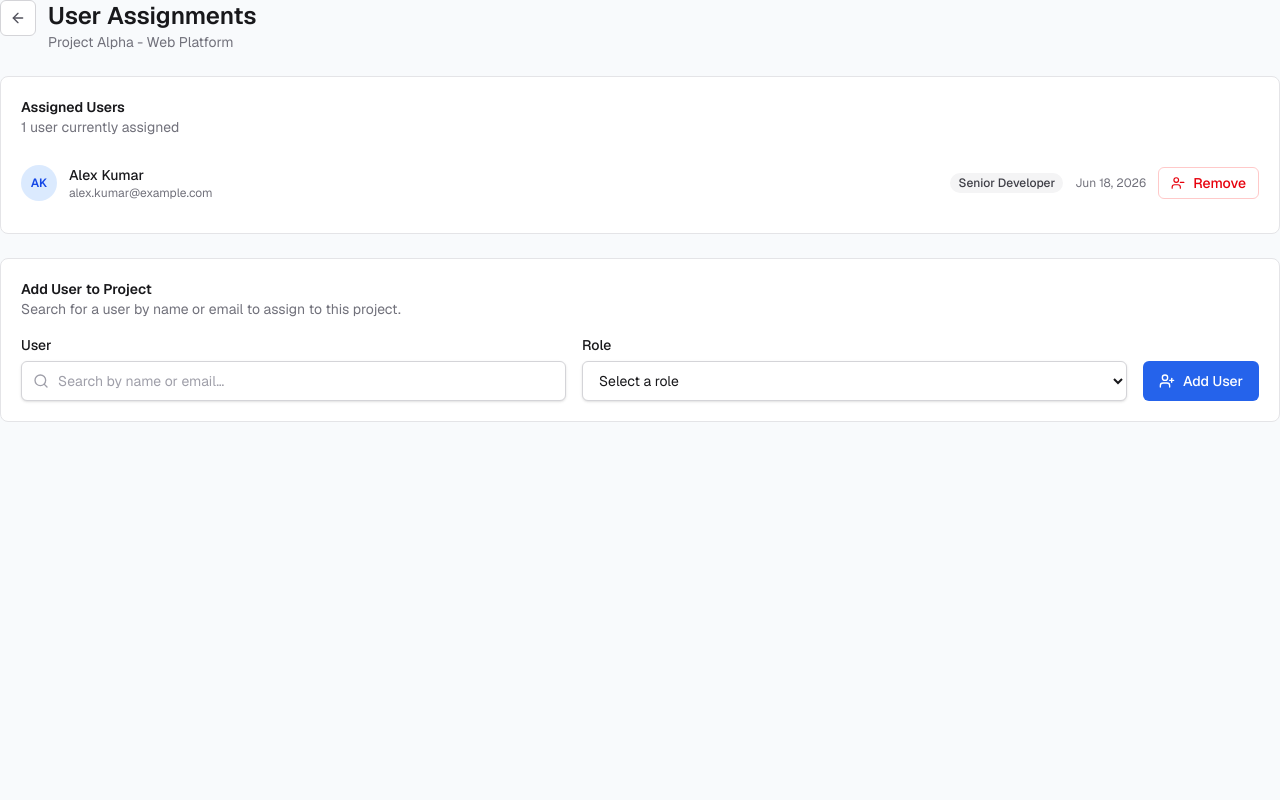
Test case: ProjectAssignmentsPanel › closes the confirm dialog without removing when cancelled
Expected: the text "Alex Kumar" is shown, [69,166,144,184]
Click the button "Remove".
click(1209, 183)  # box [1158,167,1259,199]
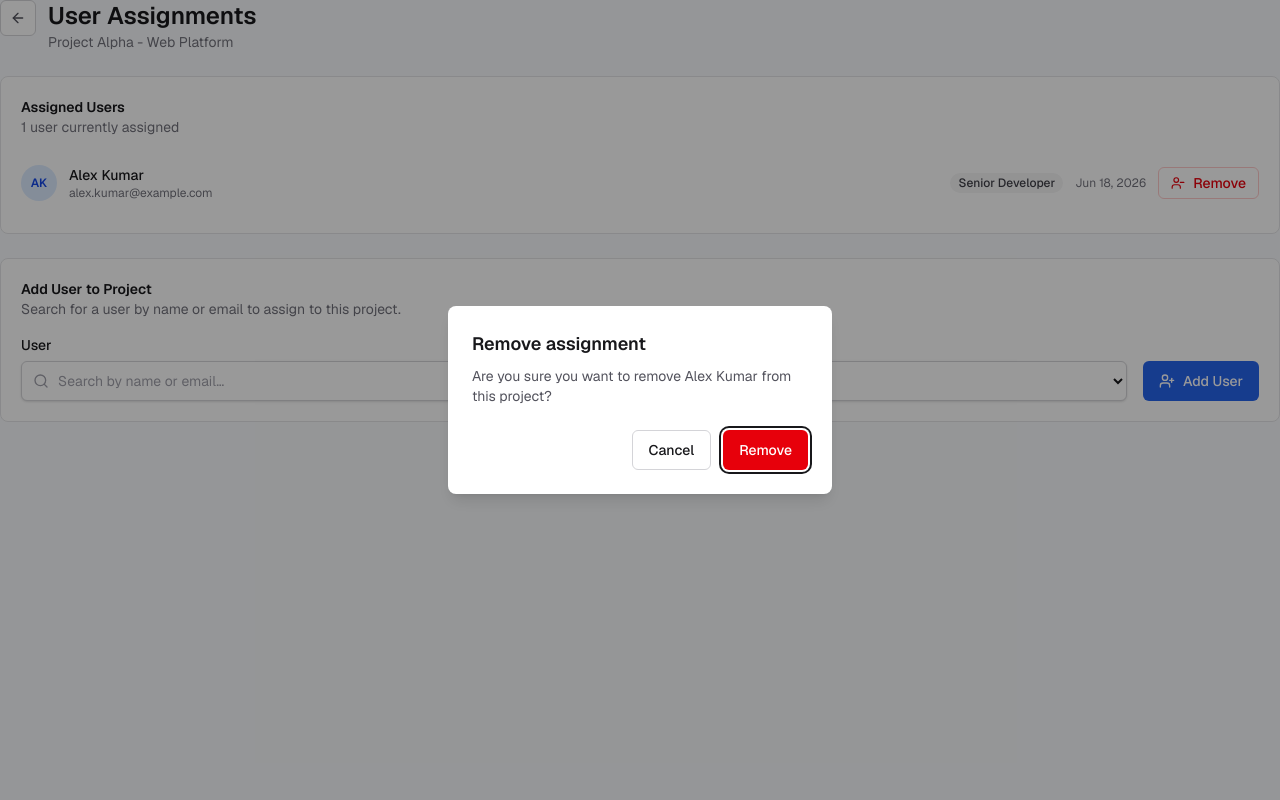
Click the button "Cancel".
click(671, 450)  # box [632,430,711,470]
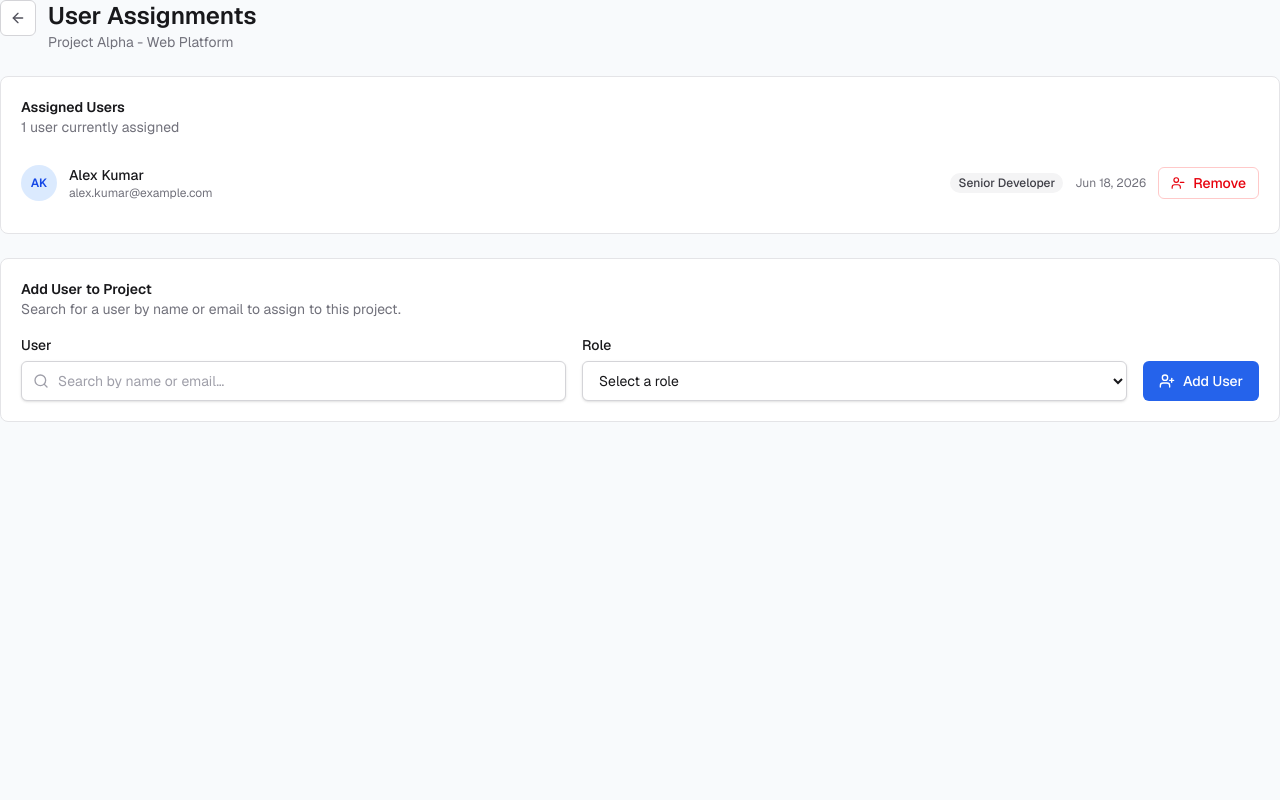
Now the dialog is gone
